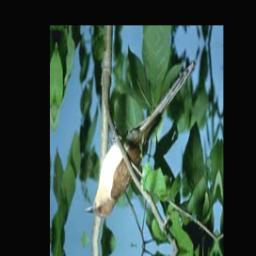Cuckoo: (82, 43, 197, 232)
